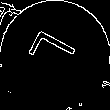L_SE: (25, 29, 85, 81)
